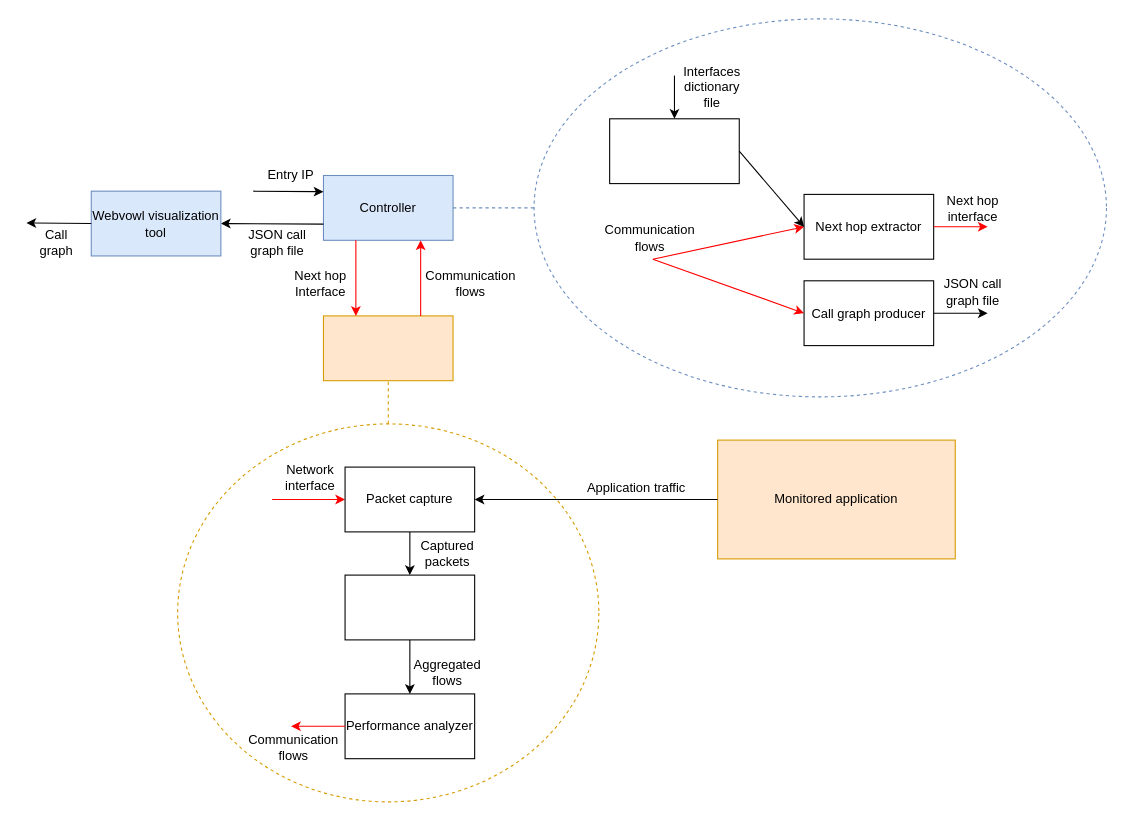
This 1125x821 diagram has some shape labels left out. Each missing label, with the centre of its shape:
Agent: the point at 387,348
Interfaces dictionary loader: the point at 674,151
Service dectector: the point at 409,607
